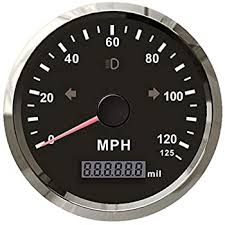Digital_Meter: (75, 158, 148, 180)
